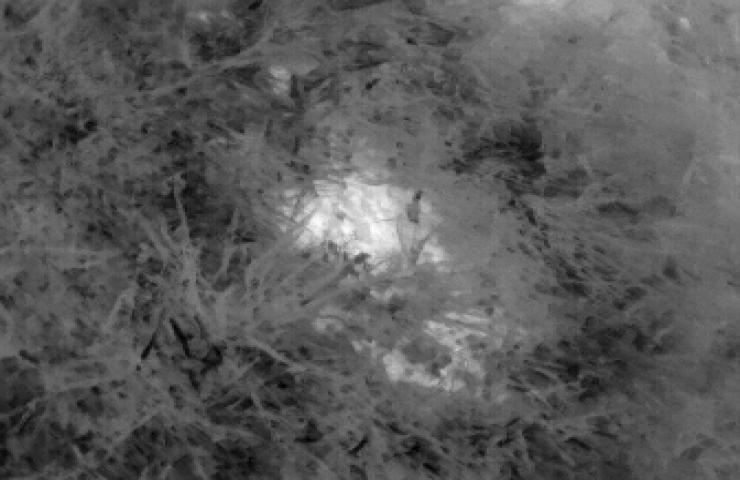landmines: (275, 168, 443, 280)
